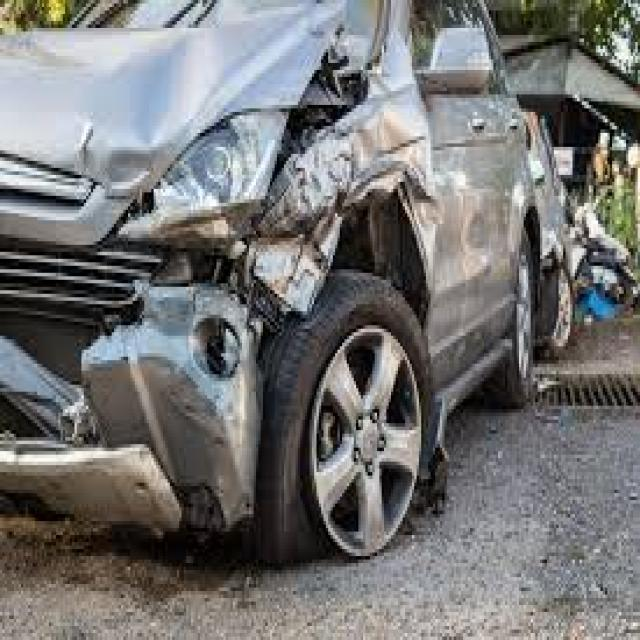severe: (104, 24, 429, 519)
